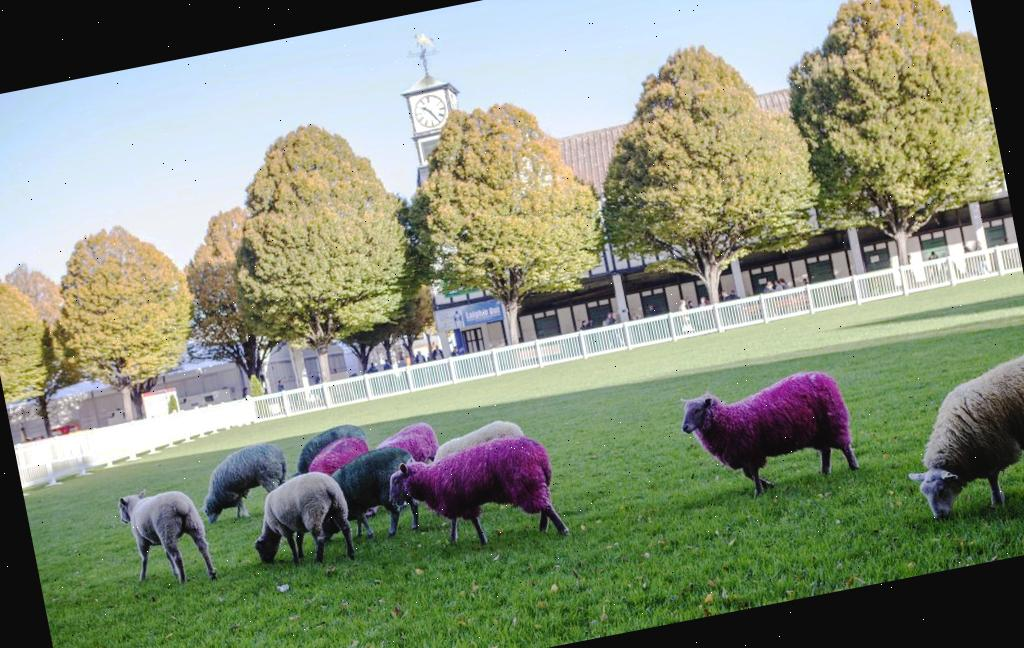Sheep: (380, 428, 581, 573), (676, 365, 860, 501), (889, 347, 1024, 523), (234, 470, 373, 586), (101, 476, 223, 598), (325, 438, 429, 524), (194, 438, 295, 521), (290, 418, 378, 490)
